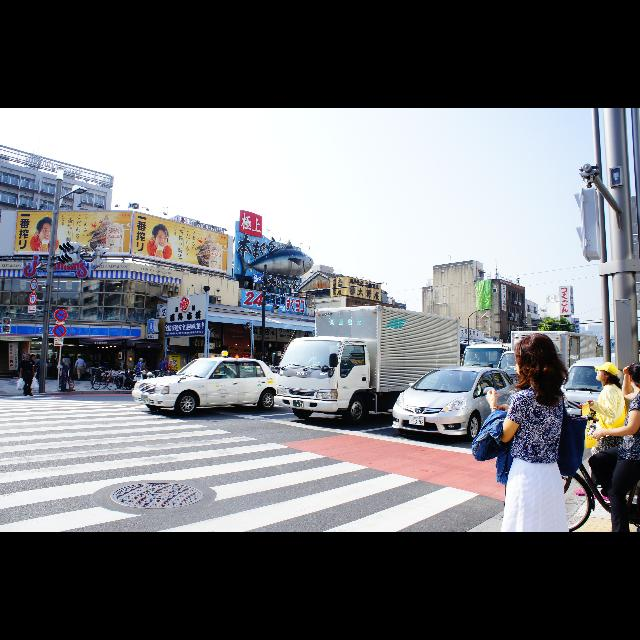head: (28, 217, 62, 289), (145, 224, 173, 296), (516, 334, 554, 378), (596, 364, 616, 382), (25, 354, 31, 361), (30, 355, 36, 361), (165, 356, 169, 362), (59, 354, 63, 358), (78, 356, 82, 360), (139, 359, 143, 363), (143, 360, 147, 364), (66, 354, 68, 358), (162, 360, 164, 362), (170, 362, 172, 364)
person: (579, 362, 629, 506), (28, 217, 62, 289), (145, 224, 173, 296), (16, 354, 40, 398), (26, 355, 36, 395), (74, 356, 86, 380), (136, 358, 144, 386), (56, 354, 64, 380), (63, 353, 71, 379), (162, 356, 168, 384), (142, 359, 148, 385), (159, 358, 165, 384), (168, 361, 174, 384)
